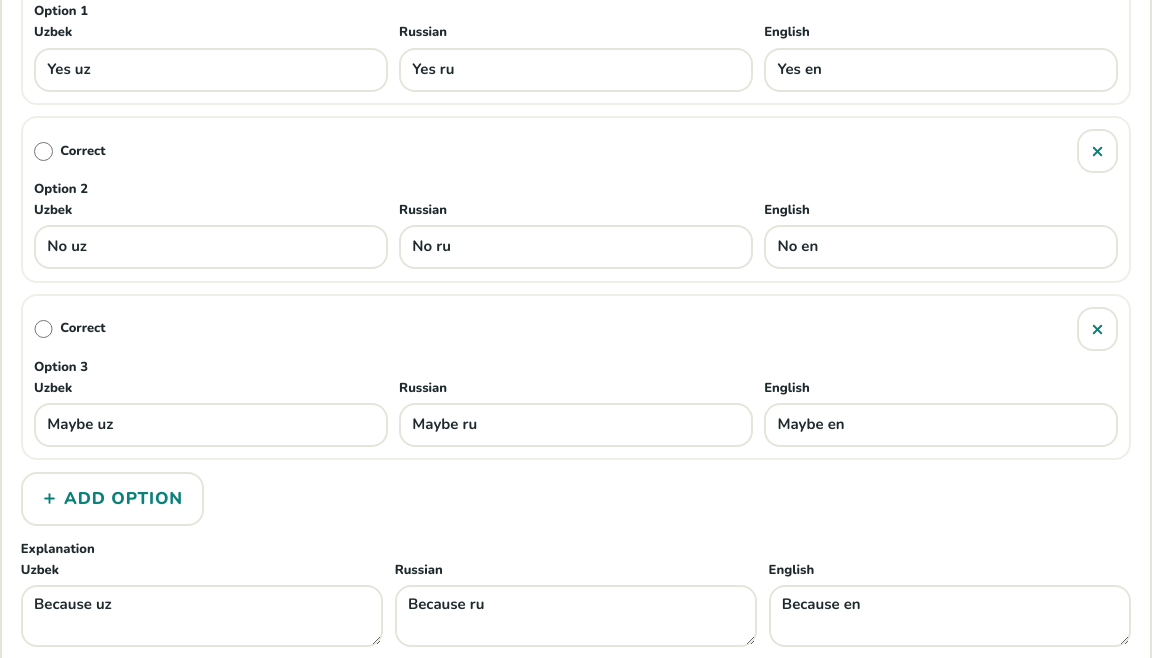
Test: AC7 · lesson editor › saves the chosen correct option and a removed option in the PUT body
This screenshot has width=1152, height=658.
(page scrolled)
Click the radio button with test id "lessons.editor.q.1.correct.3" at (43, 329), box [34,320,53,338]
(page scrolled)
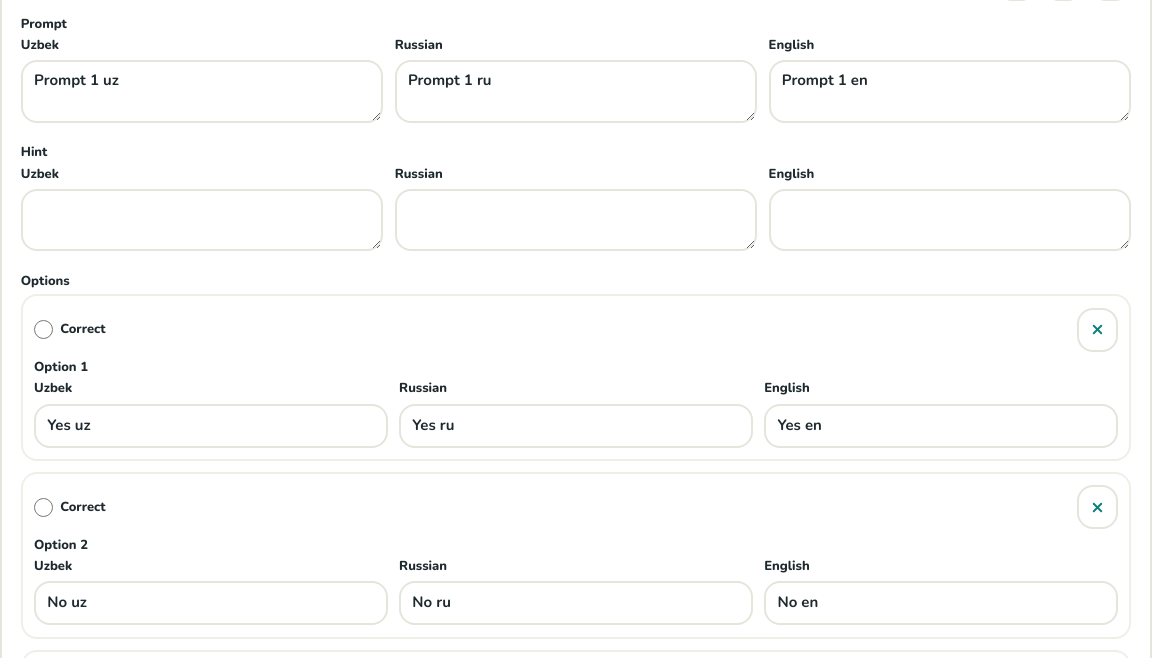
Check: the radio button with test id "lessons.editor.q.1.correct.1" is not checked, box [34,320,53,339]
Click the button named "Remove option: Option 1" at (1097, 330), box [1076,308,1118,352]
(page scrolled)
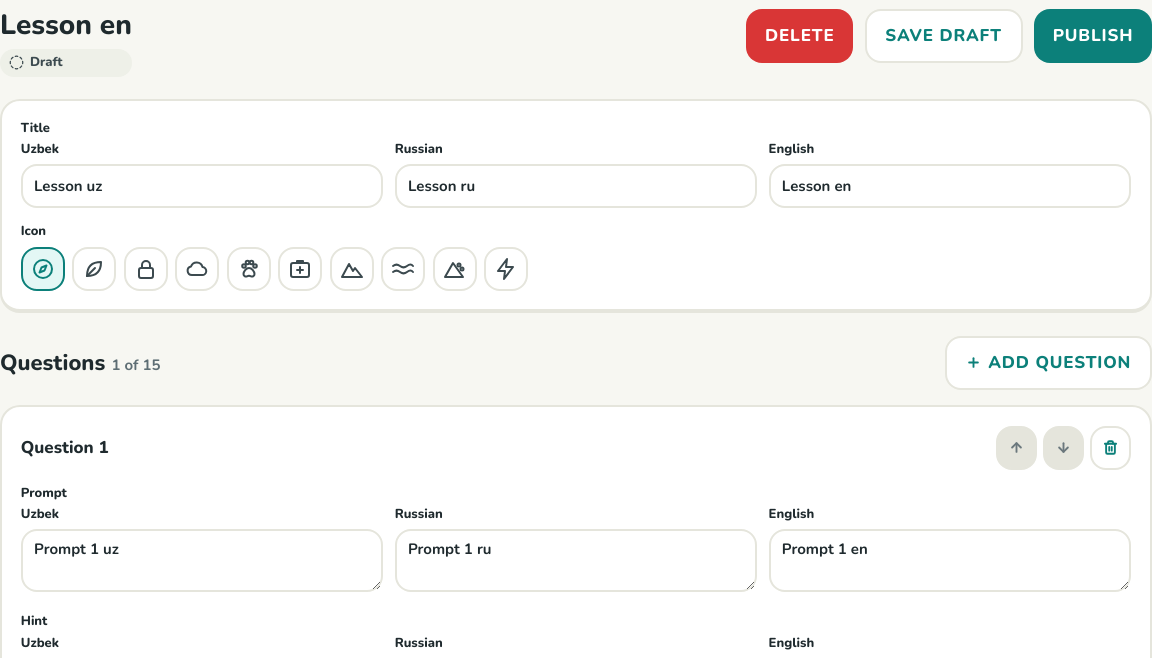
Click the button with test id "lessons.editor.save" at (944, 36), box [864,9,1023,63]
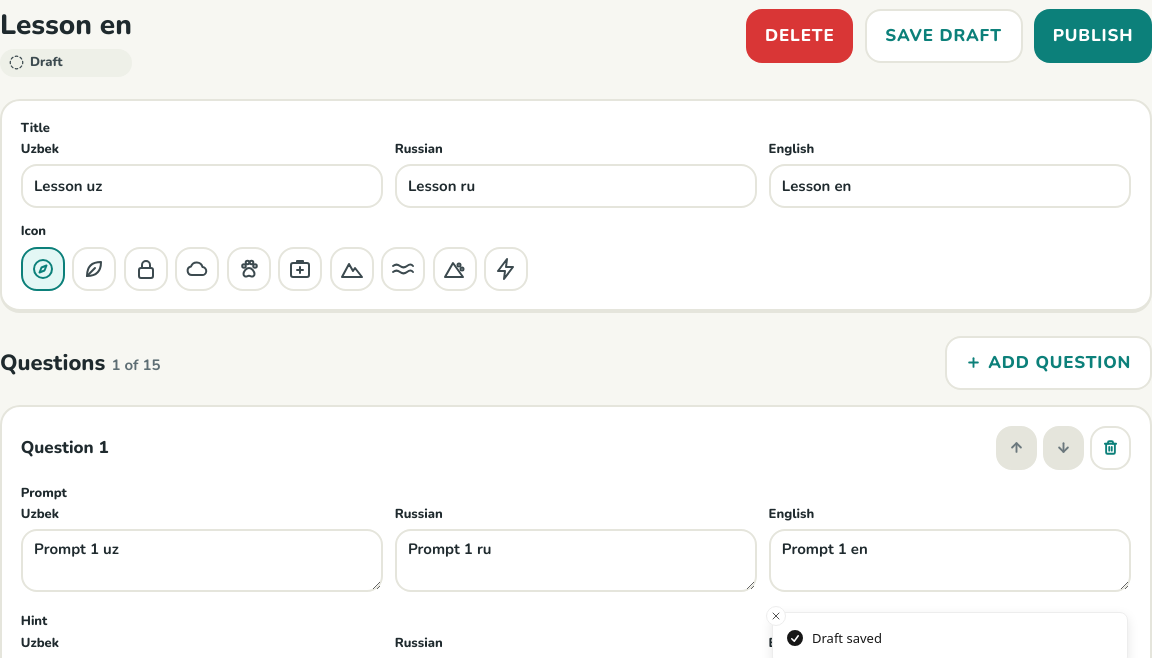
Check: the text "Draft saved" is shown, box [812,628,882,648]
